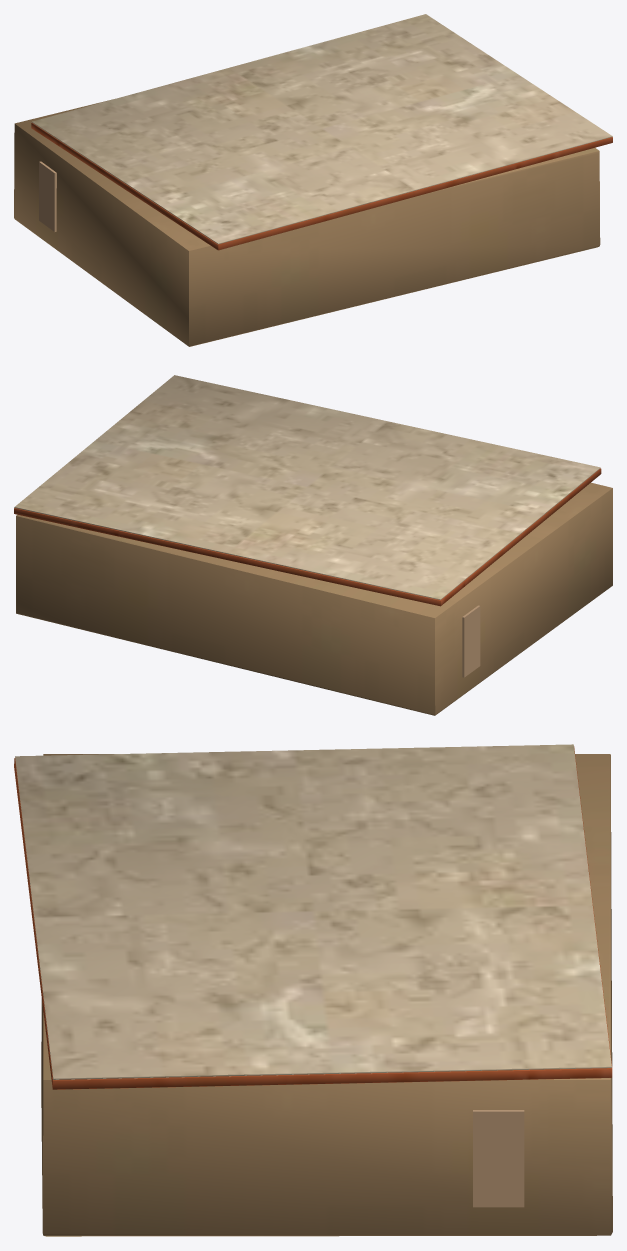
File: REV-CER-002_lod1.glb
The picture shows the model from 3 angles, top to bottom: view 1: azimuth 30°, elevation 25°; view 2: azimuth 150°, elevation 25°; view 3: azimuth 270°, elevation 25°; orthographic projection. The views are drawn at different scales.
Visible parts, largest first — view 1: REV-CER-002_face, REV-CER-002_caixa, REV-CER-002_corpo, REV-CER-002_faixa; view 2: REV-CER-002_face, REV-CER-002_caixa, REV-CER-002_corpo, REV-CER-002_faixa; view 3: REV-CER-002_face, REV-CER-002_caixa, REV-CER-002_corpo, REV-CER-002_faixa.
Boxes of the visible parts, x1=… form: REV-CER-002_face: x1=31, y1=14, x2=612, y2=244; REV-CER-002_caixa: x1=14, y1=99, x2=600, y2=346; REV-CER-002_corpo: x1=31, y1=123, x2=612, y2=250; REV-CER-002_faixa: x1=39, y1=161, x2=56, y2=231; REV-CER-002_face: x1=14, y1=375, x2=600, y2=599; REV-CER-002_caixa: x1=16, y1=482, x2=612, y2=715; REV-CER-002_corpo: x1=14, y1=468, x2=601, y2=606; REV-CER-002_faixa: x1=462, y1=605, x2=480, y2=677; REV-CER-002_face: x1=15, y1=744, x2=611, y2=1079; REV-CER-002_caixa: x1=41, y1=754, x2=612, y2=1236; REV-CER-002_corpo: x1=14, y1=746, x2=612, y2=1089; REV-CER-002_faixa: x1=473, y1=1110, x2=524, y2=1207.
Size of the model in its own units: 0.4736 by 0.1116 by 0.352.
Materials: 6 (4 with a texture image).
